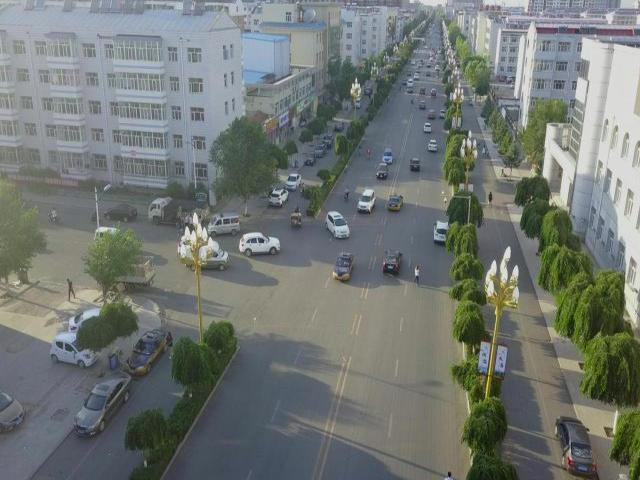out of water: (166, 332, 175, 360), (66, 278, 76, 300), (413, 264, 420, 286), (177, 218, 183, 234), (184, 213, 189, 232), (189, 214, 194, 232), (51, 208, 57, 222), (294, 206, 300, 218), (93, 208, 98, 222), (344, 187, 349, 201), (488, 191, 492, 207), (482, 145, 486, 157), (301, 182, 305, 194), (367, 147, 371, 158), (477, 138, 481, 148), (358, 145, 362, 153), (486, 149, 489, 157), (411, 96, 414, 102), (371, 88, 373, 96), (496, 85, 499, 90), (369, 94, 371, 100), (471, 98, 473, 103), (493, 86, 495, 90), (469, 97, 471, 101)
